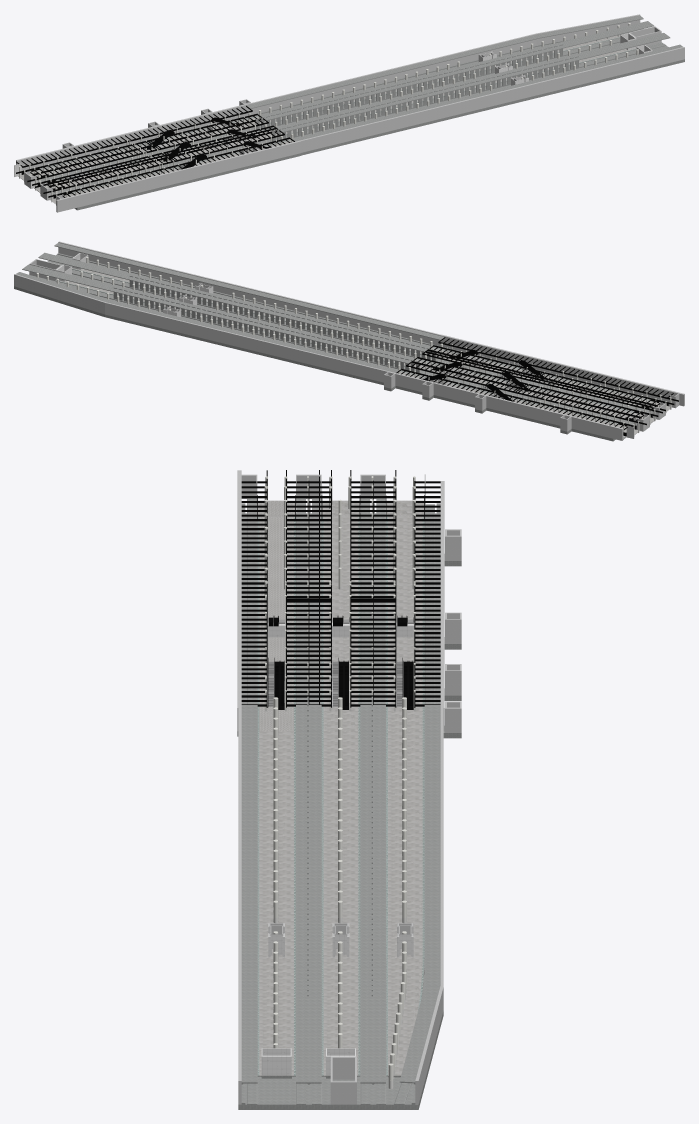
The model's file is station-b2-platform.glb.
3 views of the same model, one above another, from view 1: azimuth 30°, elevation 25°; view 2: azimuth 150°, elevation 25°; view 3: azimuth 270°, elevation 25° (orthographic). The views are drawn at different scales.
Parts seen in each view (by area): view 1: Node; view 2: Node; view 3: Node.
Part boxes in pixels (left/top/right/bottom): Node: left=14, top=14, right=684, bottom=212; Node: left=14, top=241, right=684, bottom=441; Node: left=237, top=470, right=461, bottom=1109.
Size of the model in its own units: 451 by 11.68 by 69.97.
10 materials, 7 textured.
